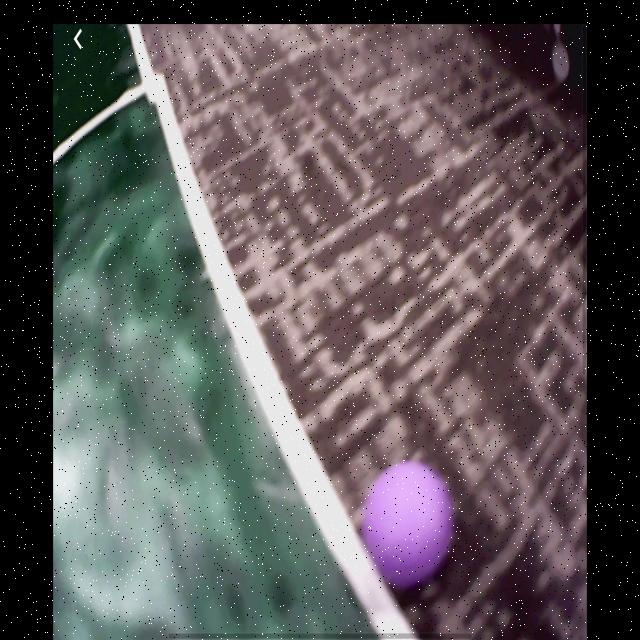ball: (359, 460, 456, 594)
